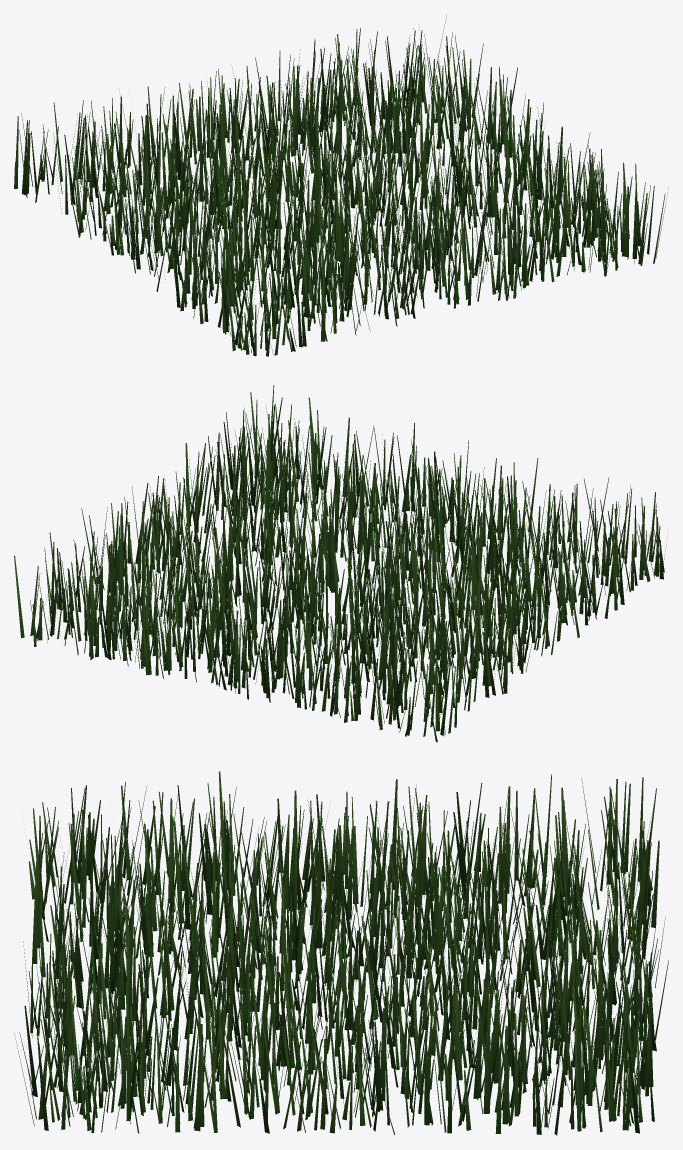
File: Turf_Sedge_v0.glb
3 views of the same model, one above another, from view 1: azimuth 30°, elevation 25°; view 2: azimuth 150°, elevation 25°; view 3: azimuth 270°, elevation 25° (orthographic). The views are drawn at different scales.
Parts seen in each view (by area): view 1: Turf_Sedge_v0; view 2: Turf_Sedge_v0; view 3: Turf_Sedge_v0.
Part boxes in pixels (<box>): Turf_Sedge_v0: <box>14,15,668,356</box>; Turf_Sedge_v0: <box>14,385,668,742</box>; Turf_Sedge_v0: <box>14,771,668,1135</box>.
Bounding box in the file's own units: 1.5 × 0.25 × 1.51.
